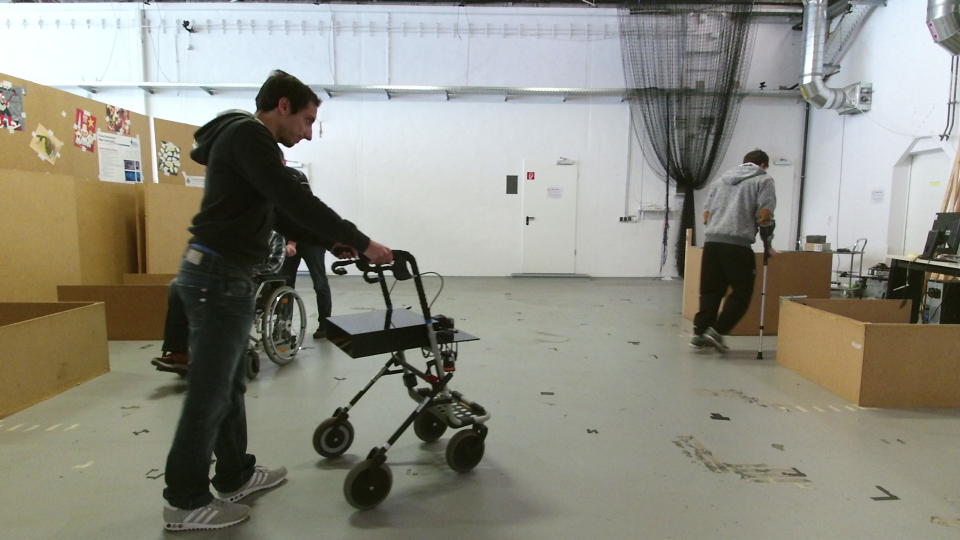crutches: (683, 142, 776, 363)
